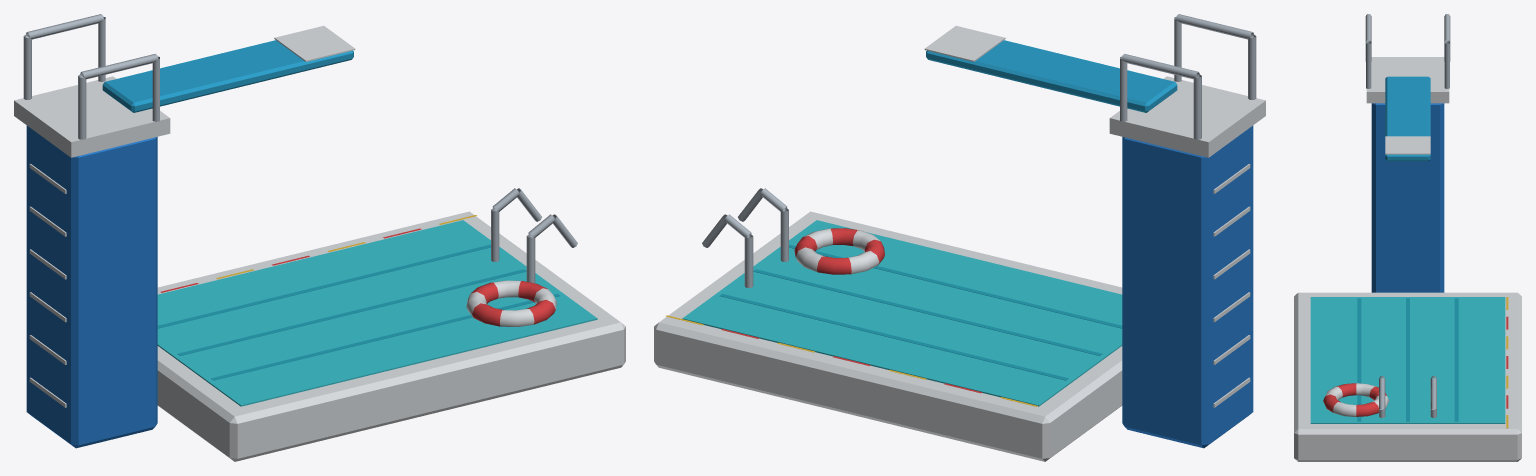
Rendered from aqua-deco2.glb.
3 views of the same model, side by side, from view 1: azimuth 30°, elevation 25°; view 2: azimuth 150°, elevation 25°; view 3: azimuth 270°, elevation 25° (orthographic). The views are drawn at different scales.
Parts seen in each view (by area): view 1: aqua-deco2; view 2: aqua-deco2; view 3: aqua-deco2.
Boxes of the visible parts, x1,y1,x2,y2 form: aqua-deco2: (14,14,625,461); aqua-deco2: (654,14,1265,461); aqua-deco2: (1294,14,1521,461).
Size of the model in its own units: 4.17 by 2.93 by 2.2.
